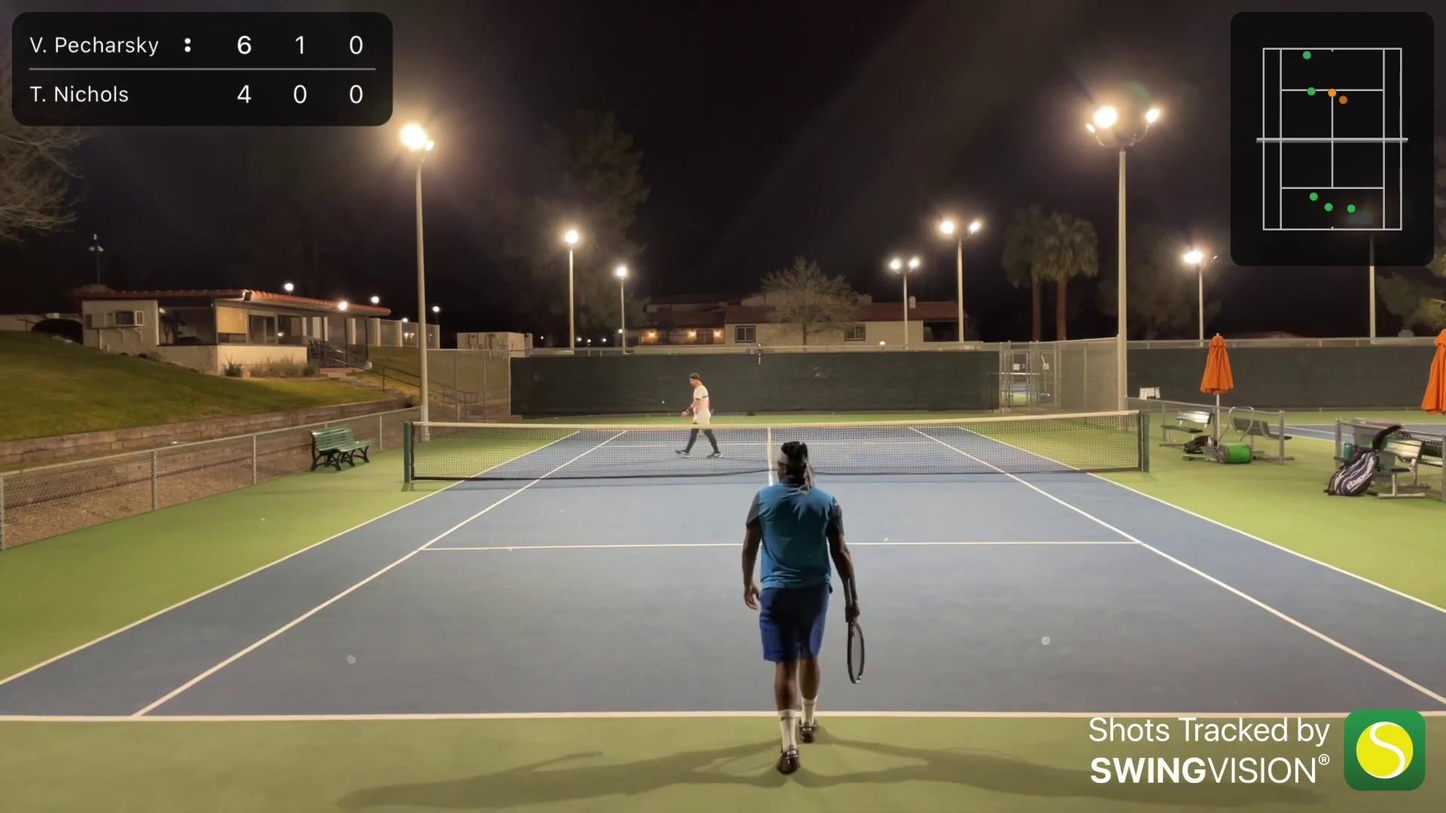ball: (661, 398, 666, 405)
